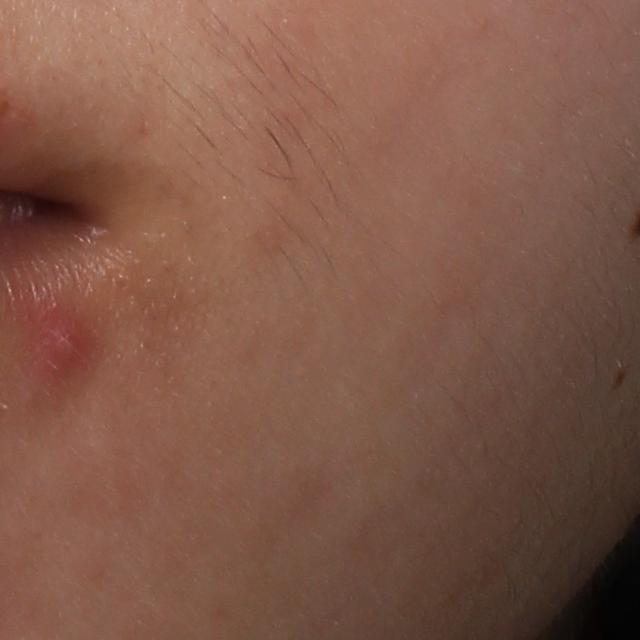papule: (33, 317, 84, 380)
